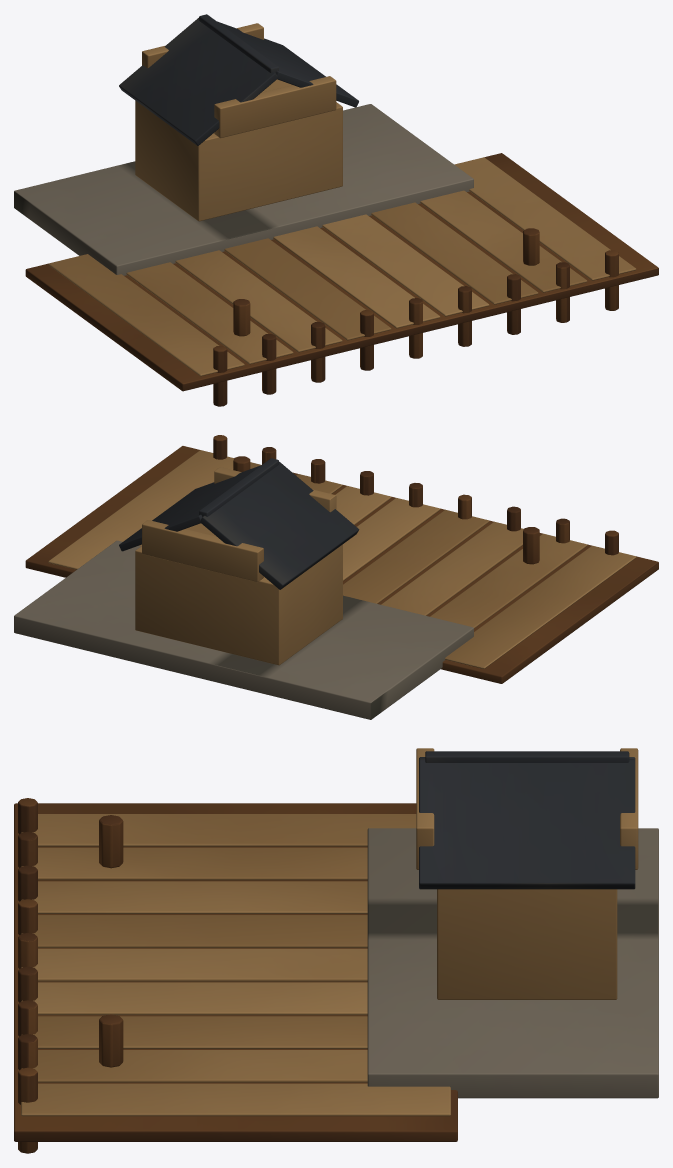
The model's file is building_ferry_dock.fbx.
The picture shows the model from 3 angles, top to bottom: view 1: azimuth 30°, elevation 25°; view 2: azimuth 150°, elevation 25°; view 3: azimuth 270°, elevation 25°; orthographic projection. The views are drawn at different scales.
Visible parts, largest first — view 1: building_ferry_dock; view 2: building_ferry_dock; view 3: building_ferry_dock.
Part boxes in pixels (box(x1,y1,x2,y2)): building_ferry_dock: box(14, 14, 658, 406); building_ferry_dock: box(14, 435, 658, 719); building_ferry_dock: box(14, 748, 658, 1153).
Size of the model in its own units: 11.2 by 4.16 by 9.3.
